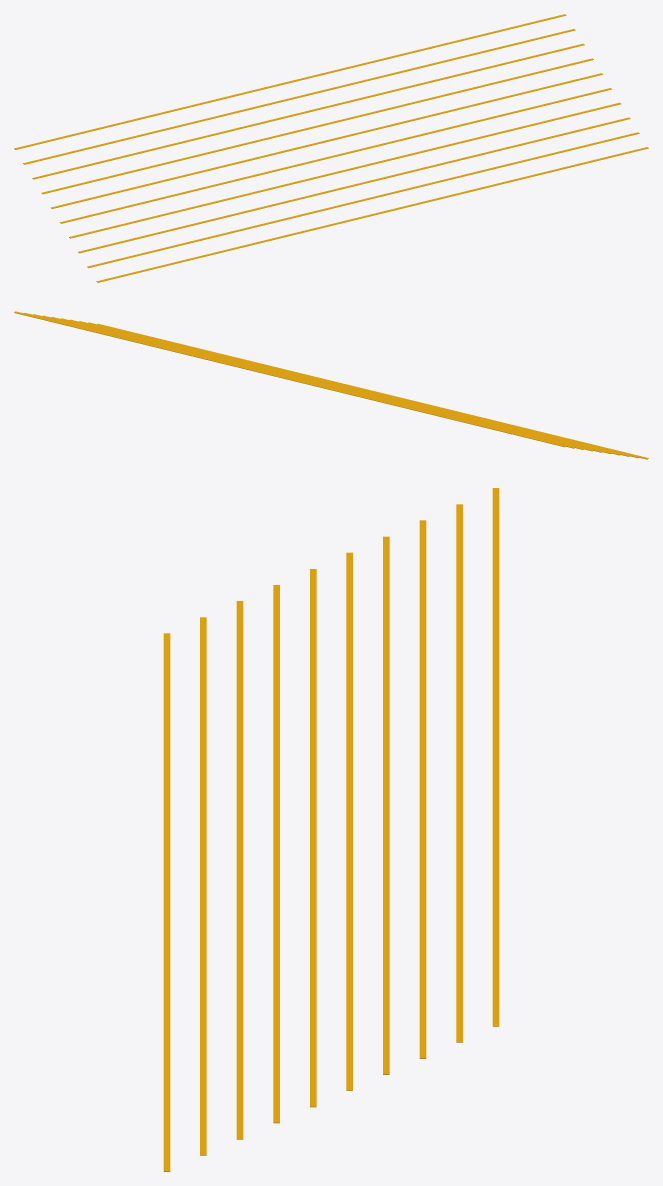
The model's file is gteki_ik_stair_n10_r147_t302_w10522_nosing.glb.
3 views of the same model, one above another, from view 1: azimuth 30°, elevation 25°; view 2: azimuth 150°, elevation 25°; view 3: azimuth 270°, elevation 25° (orthographic). The views are drawn at different scales.
Visible parts, largest first — view 1: VIS_body; view 2: VIS_body; view 3: VIS_body.
Part boxes in pixels (<box>): VIS_body: <box>14,14,648,282</box>; VIS_body: <box>14,311,648,459</box>; VIS_body: <box>163,488,499,1171</box>.
Bounding box in the file's own units: 10.51 × 1.33 × 2.77.
1 material, 1 textured.
